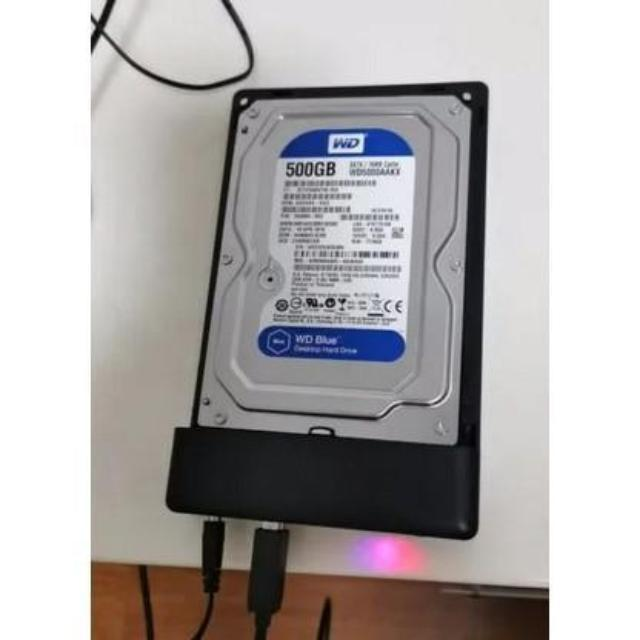DISK: (198, 72, 480, 457)
